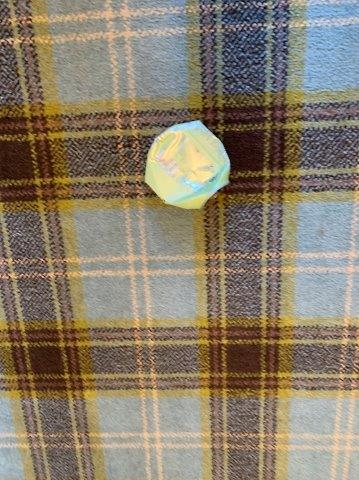kaleng: (145, 121, 230, 209)
